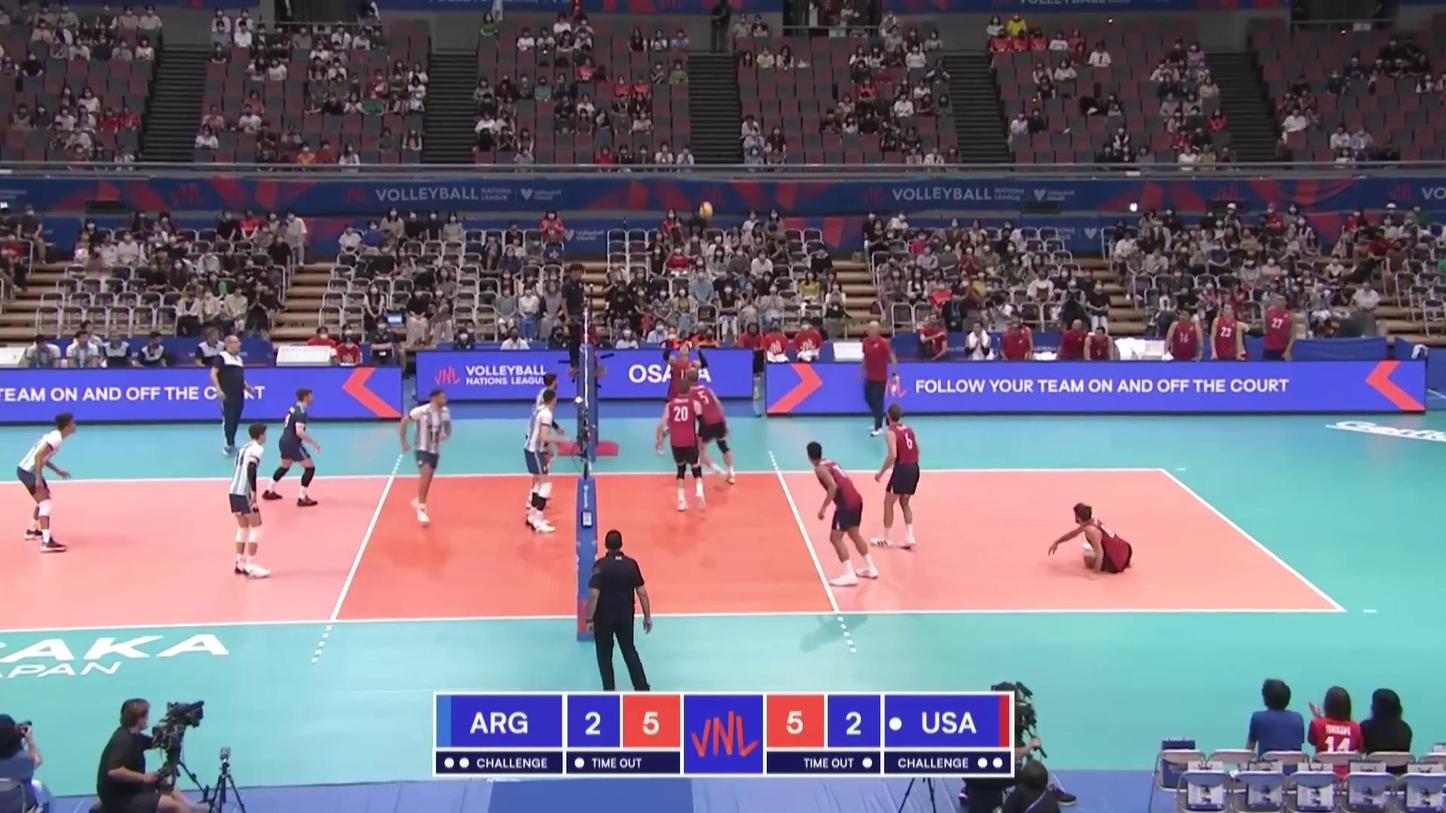player: (806, 440, 882, 590), (16, 414, 78, 554), (400, 389, 453, 529), (871, 404, 920, 551), (261, 388, 320, 507), (1047, 505, 1135, 580), (682, 367, 737, 485), (227, 424, 269, 578), (657, 381, 705, 508), (524, 391, 563, 535), (523, 373, 563, 511), (656, 340, 703, 452)
refree: (583, 529, 654, 692), (560, 264, 593, 370)
